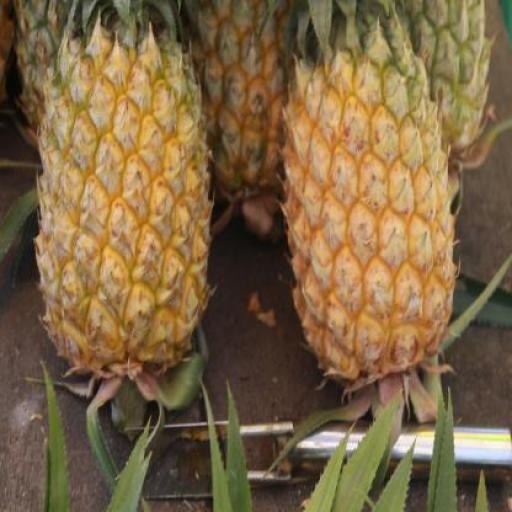Pineapple - v8 v1: (33, 37, 208, 379), (279, 53, 453, 379)
